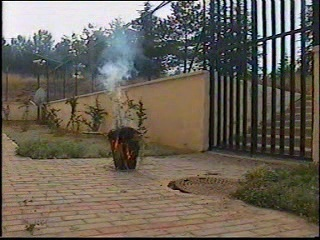smoke: (95, 26, 144, 103)
